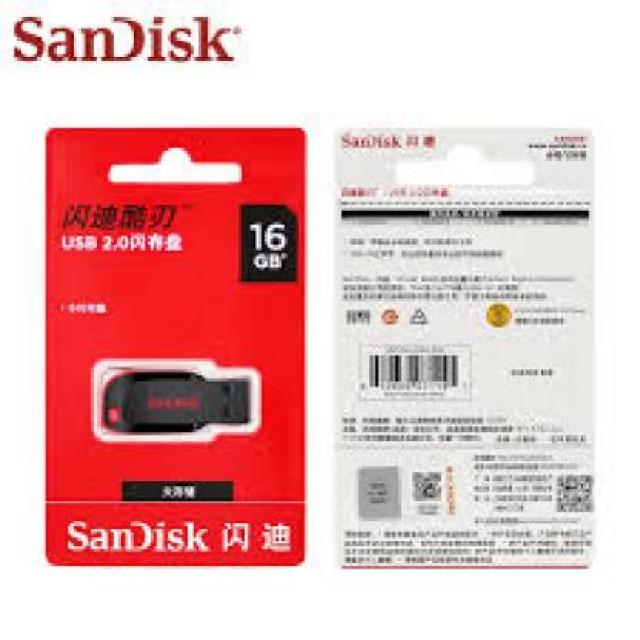Flashdisk: (98, 370, 254, 435)
